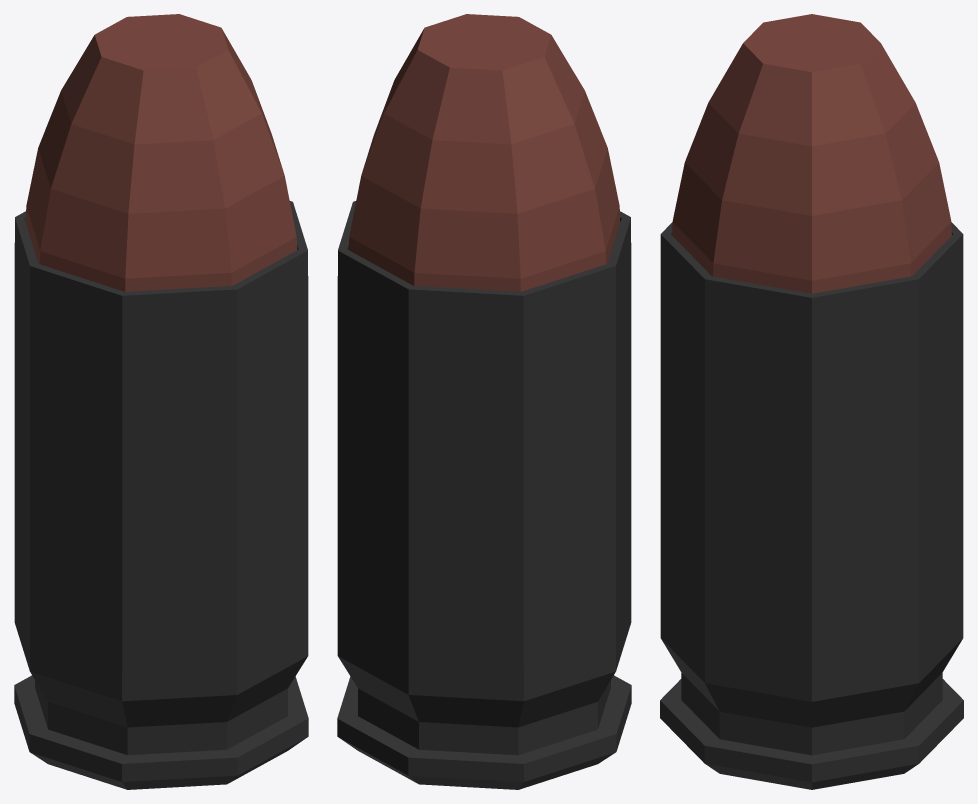
3 renders of one model, left to right at view 1: azimuth 30°, elevation 25°; view 2: azimuth 150°, elevation 25°; view 3: azimuth 270°, elevation 25°, orthographic.
Visible parts, largest first — view 1: 9x18; view 2: 9x18; view 3: 9x18.
Boxes of the visible parts, bbox=[...] form: 9x18: bbox=[14, 14, 308, 789]; 9x18: bbox=[337, 14, 631, 789]; 9x18: bbox=[660, 14, 963, 789].
Size of the model in its own units: 0.00995 by 0.025 by 0.00995.
1 material, 1 textured.
